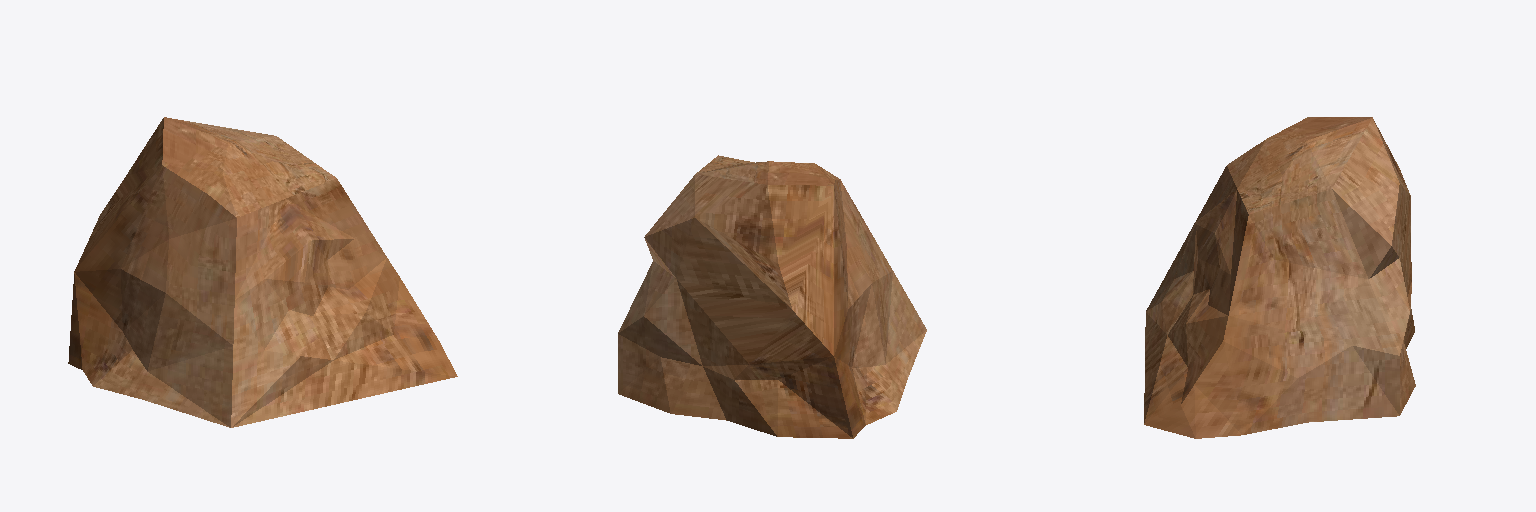
The picture shows the model from 3 angles: view 1: azimuth 30°, elevation 25°; view 2: azimuth 150°, elevation 25°; view 3: azimuth 270°, elevation 25°; orthographic projection.
Parts seen in each view (by area): view 1: Cube_Cube.001; view 2: Cube_Cube.001; view 3: Cube_Cube.001.
Part boxes in pixels (x1,y1,x2,y2): Cube_Cube.001: (68,117,457,427); Cube_Cube.001: (618,155,926,438); Cube_Cube.001: (1144,117,1415,438).
Size of the model in its own units: 57.55 by 43.78 by 46.43.
1 materials, 1 textured.